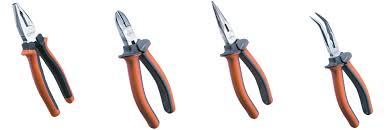pliers: (208, 0, 273, 119), (113, 9, 175, 129), (10, 1, 74, 116)
